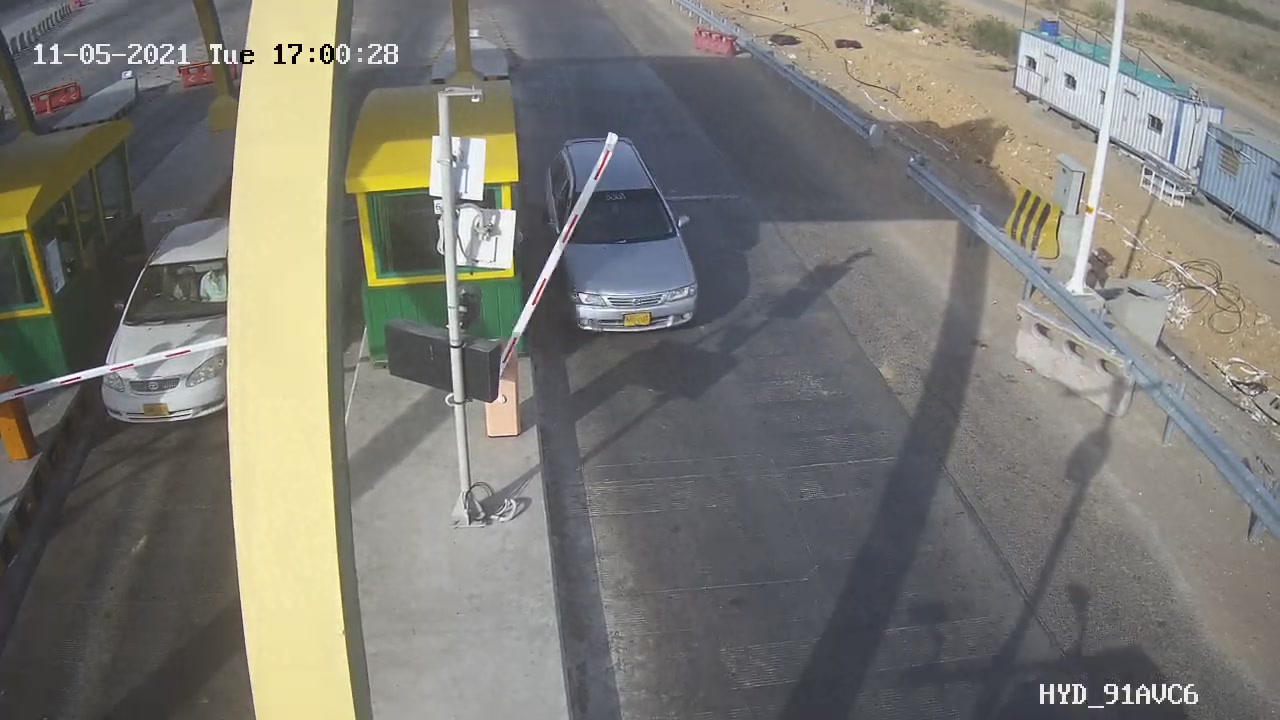F1: (517, 118, 727, 362)
